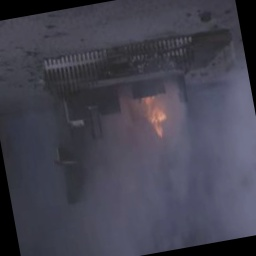fire: (131, 89, 180, 153)
smoke: (74, 127, 256, 256)
